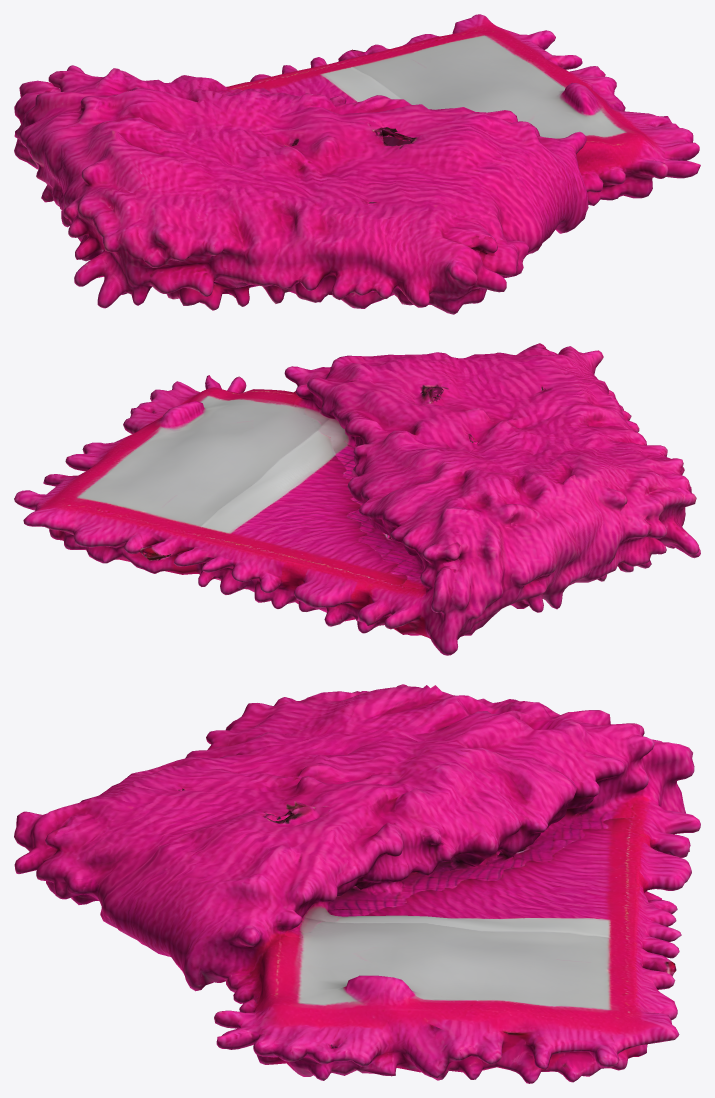
Rendered from Meshy_AI_Pink_Chenille_Mop_Pad_0105210338_texture.fbx.
3 views of the same model, one above another, from view 1: azimuth 30°, elevation 25°; view 2: azimuth 150°, elevation 25°; view 3: azimuth 270°, elevation 25° (orthographic). The views are drawn at different scales.
Visible parts, largest first — view 1: Mesh0; view 2: Mesh0; view 3: Mesh0.
Boxes of the visible parts, x1,y1,x2,y2 form: Mesh0: [14, 14, 700, 314]; Mesh0: [14, 343, 700, 655]; Mesh0: [14, 684, 700, 1083].
Size of the model in its own units: 190 by 39.2 by 168.
1 material, 1 textured.
